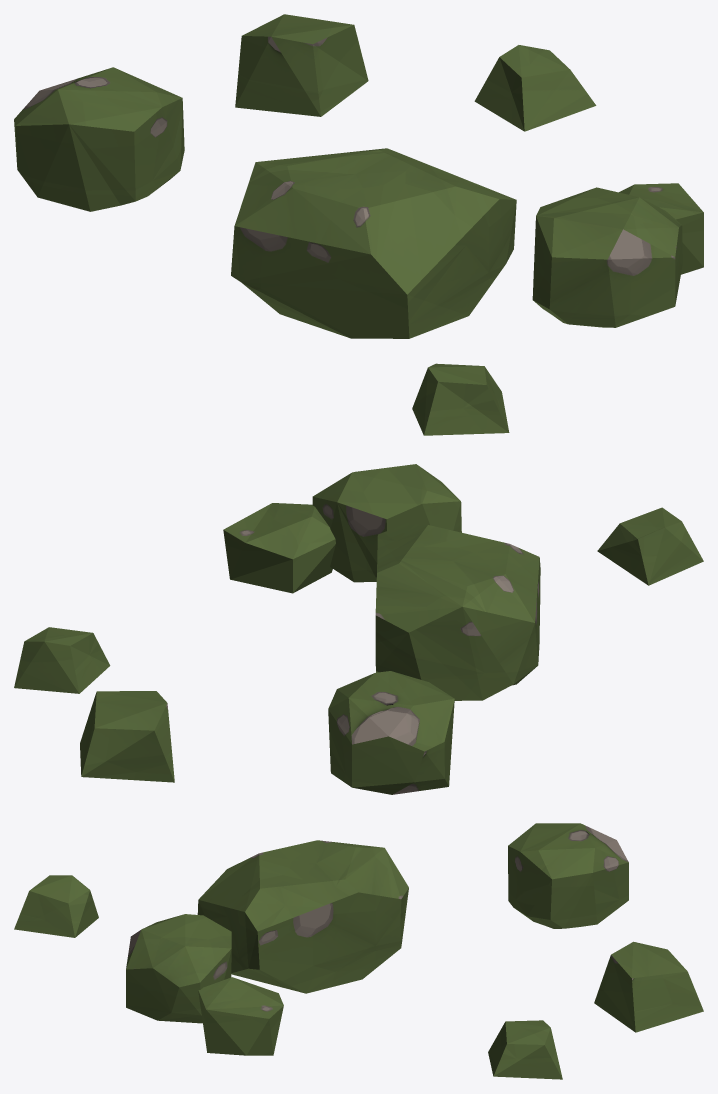
The model's file is synty-terrain-rubble-pebbles-02.gltf.
3 views of the same model, one above another, from view 1: azimuth 30°, elevation 25°; view 2: azimuth 150°, elevation 25°; view 3: azimuth 270°, elevation 25° (orthographic). The views are drawn at different scales.
Visible parts, largest first — view 1: SM_Terrain_Rubble_Pebbles_02; view 2: SM_Terrain_Rubble_Pebbles_02; view 3: SM_Terrain_Rubble_Pebbles_02.
Boxes of the visible parts, x1,y1,x2,y2 form: SM_Terrain_Rubble_Pebbles_02: [14, 14, 703, 435]; SM_Terrain_Rubble_Pebbles_02: [14, 464, 703, 794]; SM_Terrain_Rubble_Pebbles_02: [14, 823, 703, 1079].
Bounding box in the file's own units: 1.09 × 0.2811 × 1.61.
1 material, 1 textured.
